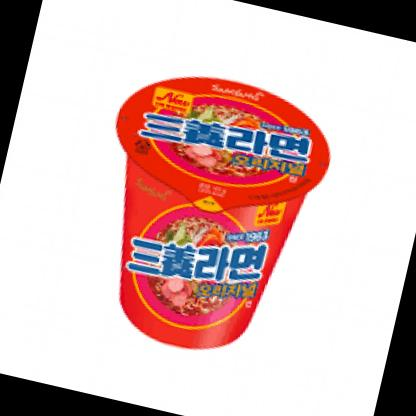Ramen: (67, 52, 339, 373)
